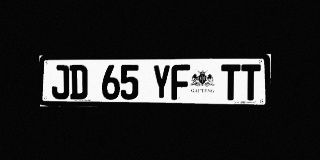5: (120, 65, 139, 100)
6: (102, 65, 120, 100)
D: (70, 65, 88, 99)
F: (171, 64, 190, 100)
J: (51, 65, 69, 99)
T: (221, 64, 241, 100), (241, 64, 261, 100)
Y: (152, 65, 171, 100)
